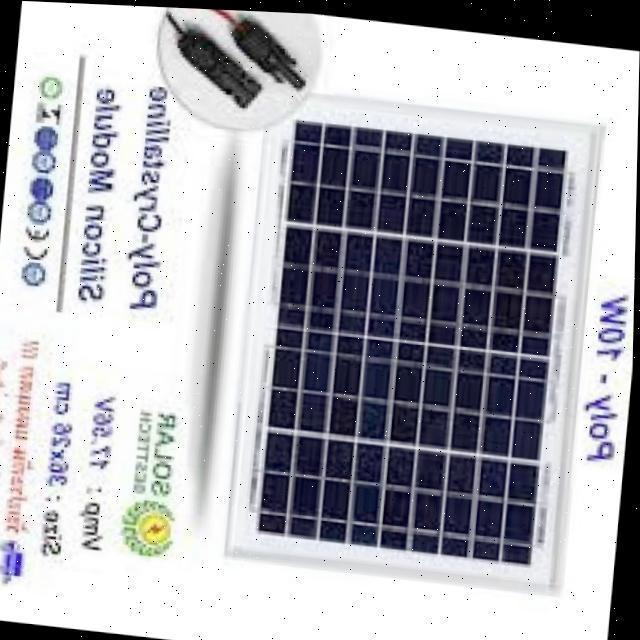Normal Solar Panel: (226, 89, 594, 586)
